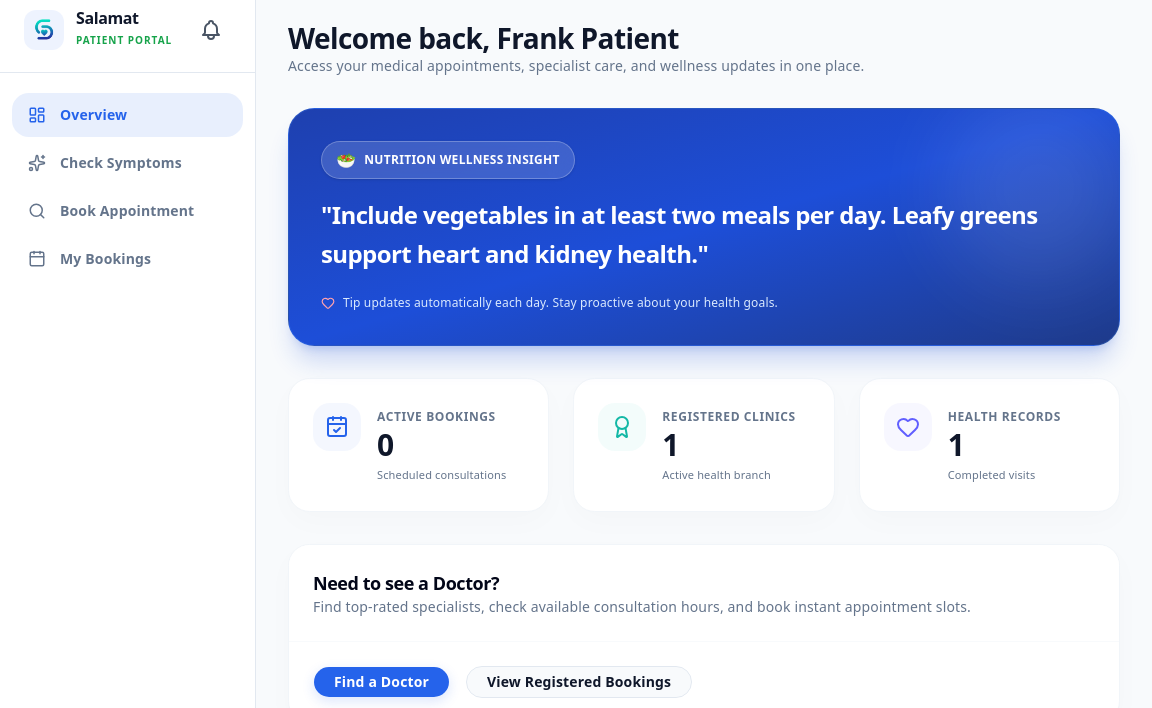
Test: Patient Dashboard - Bookings & Prescription Tracking › allows patient to use Check Symptoms tab and navigate to pre-filtered doctor list
# Click Check Symptoms tab
Click the button "Check Symptoms" at {"x": 128, "y": 163}, box [12,141,243,185]
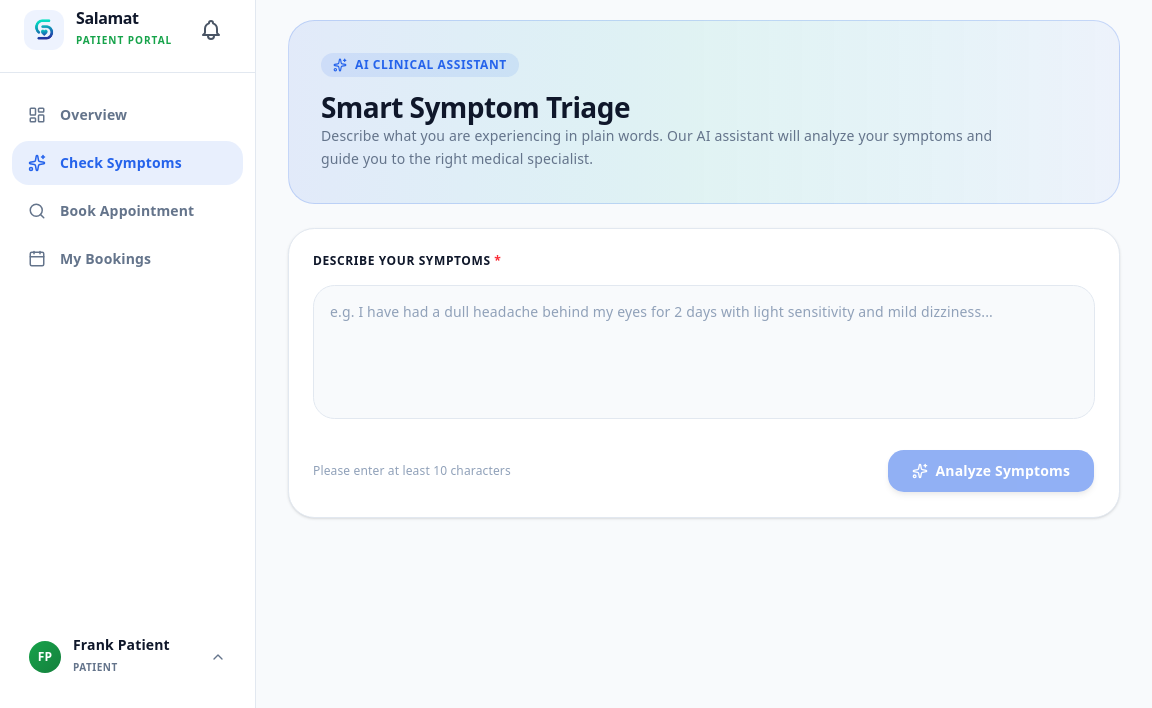
# Type symptoms into textarea
Replace the text in the text box labelled "Describe Your Symptoms *" with "Chest pain with shortness of breath" at {"x": 704, "y": 352}, box [313,285,1095,419]
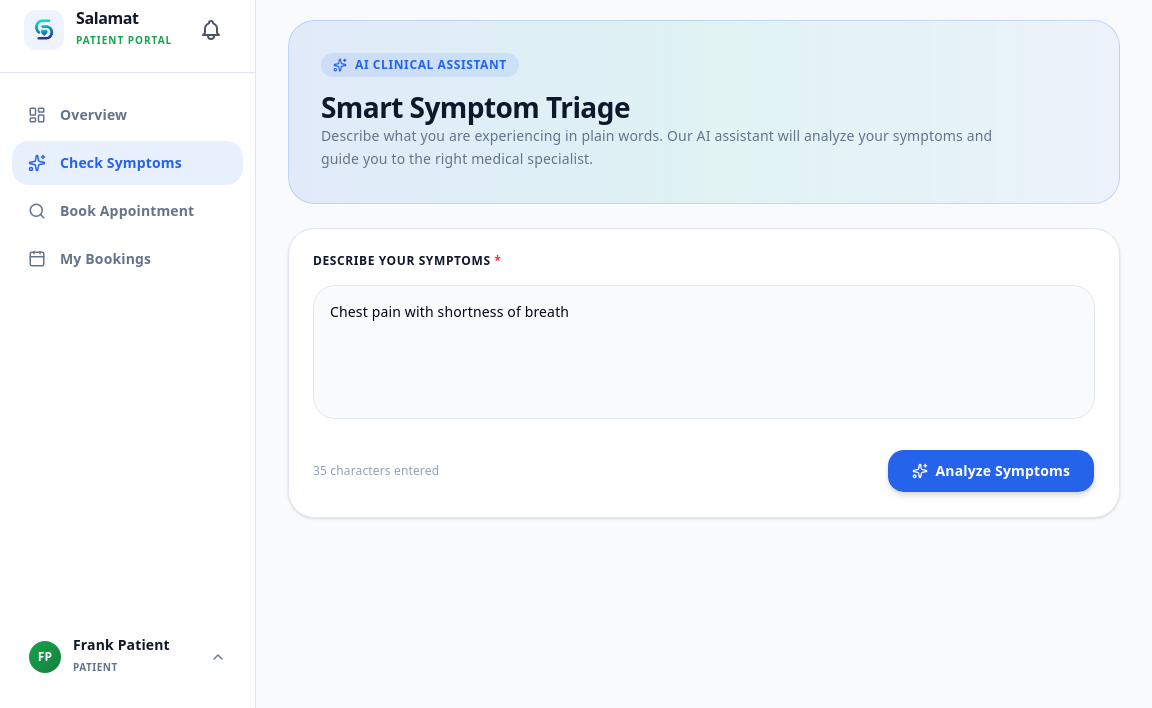
# Click Analyze button
Click the button "Analyze Symptoms" at {"x": 991, "y": 471}, box [887,449,1095,493]
(page scrolled)
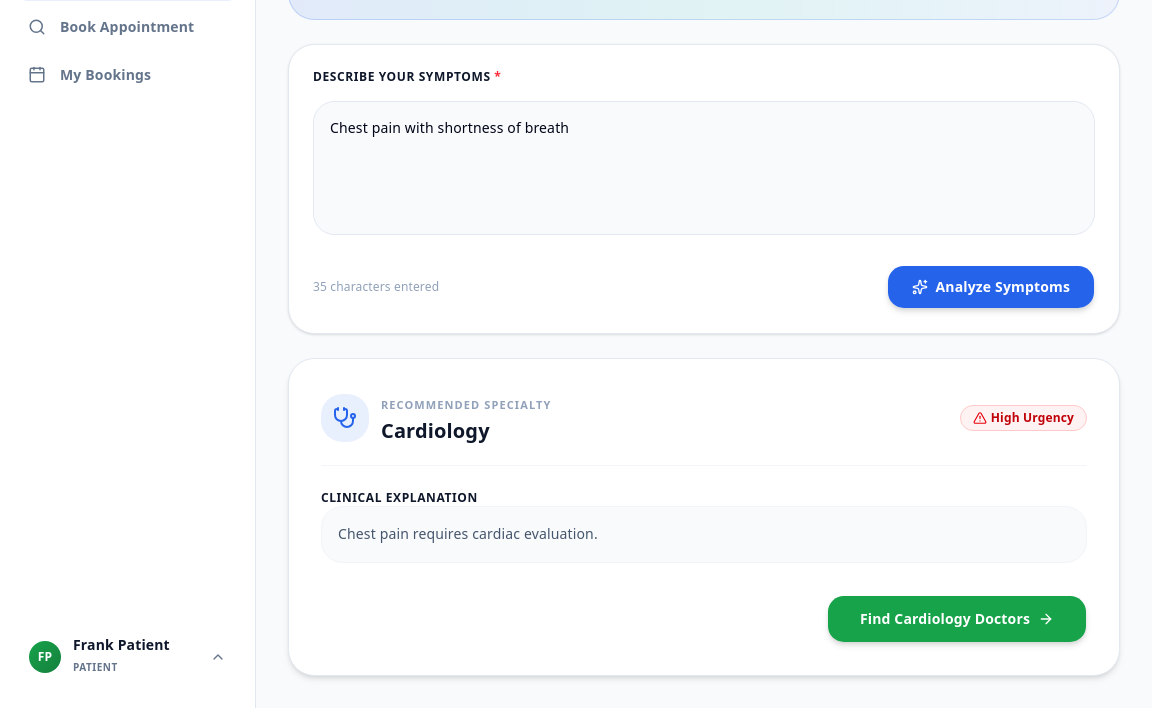
Expected: the heading "Cardiology" is shown, [381,417,490,444]
Expected: the text "Chest pain requires cardiac evaluation." is shown, [321,506,1087,563]
# Click Find Cardiology Doctors button
Click the button "Find Cardiology Doctors" at {"x": 957, "y": 619}, box [827,595,1087,643]
(page scrolled)
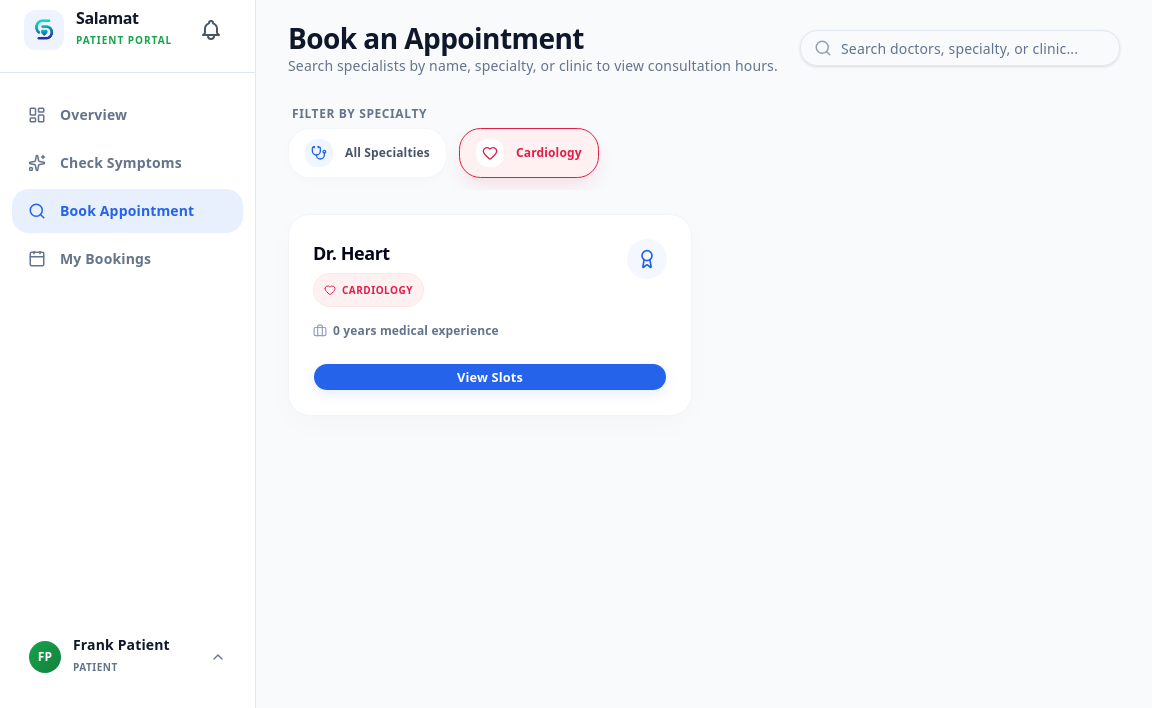
Expected: the heading "Dr. Heart" is shown, [313,241,390,265]
